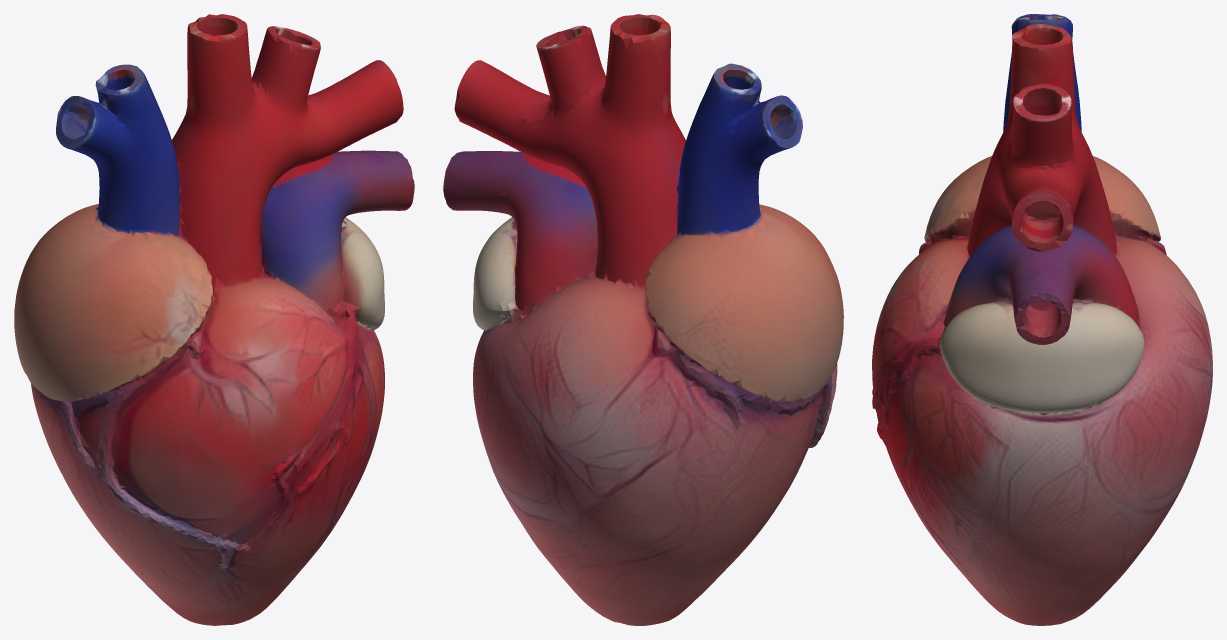
File: dog_heart.glb
3 renders of one model, left to right at view 1: azimuth 30°, elevation 25°; view 2: azimuth 150°, elevation 25°; view 3: azimuth 270°, elevation 25°, orthographic.
Parts seen in each view (by area): view 1: model; view 2: model; view 3: model.
Part boxes in pixels (x1=…): model: x1=14, y1=14, x2=414, y2=625; model: x1=443, y1=14, x2=843, y2=625; model: x1=872, y1=14, x2=1212, y2=625.
Bounding box in the file's own units: 1.26 × 1.9 × 1.02.
Materials: 1 (1 with a texture image).
